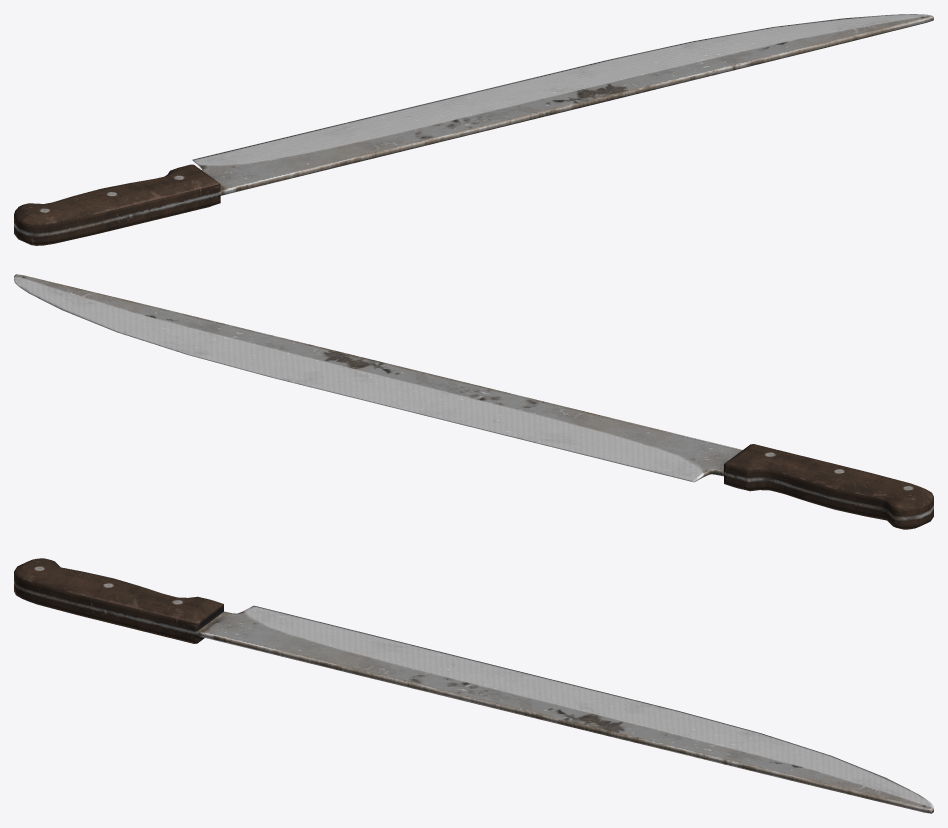
Rendered from SM_Kitchenware03_4_LOD0.glb.
The picture shows the model from 3 angles, top to bottom: view 1: azimuth 30°, elevation 25°; view 2: azimuth 150°, elevation 25°; view 3: azimuth 330°, elevation 25°; orthographic projection. The views are drawn at different scales.
Parts seen in each view (by area): view 1: SM_Kitchenware03_4_LOD0; view 2: SM_Kitchenware03_4_LOD0; view 3: SM_Kitchenware03_4_LOD0.
Part boxes in pixels (x1=…): SM_Kitchenware03_4_LOD0: x1=14, y1=14, x2=933, y2=245; SM_Kitchenware03_4_LOD0: x1=14, y1=274, x2=933, y2=529; SM_Kitchenware03_4_LOD0: x1=14, y1=558, x2=933, y2=813.
Bounding box in the file's own units: 0.7215 × 0.0231 × 0.0579.
1 material, 1 textured.
